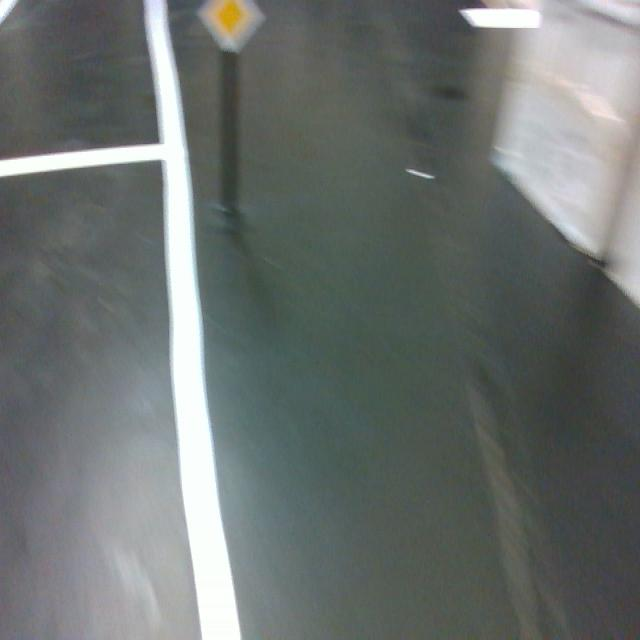priority-sign: (195, 0, 267, 55)
